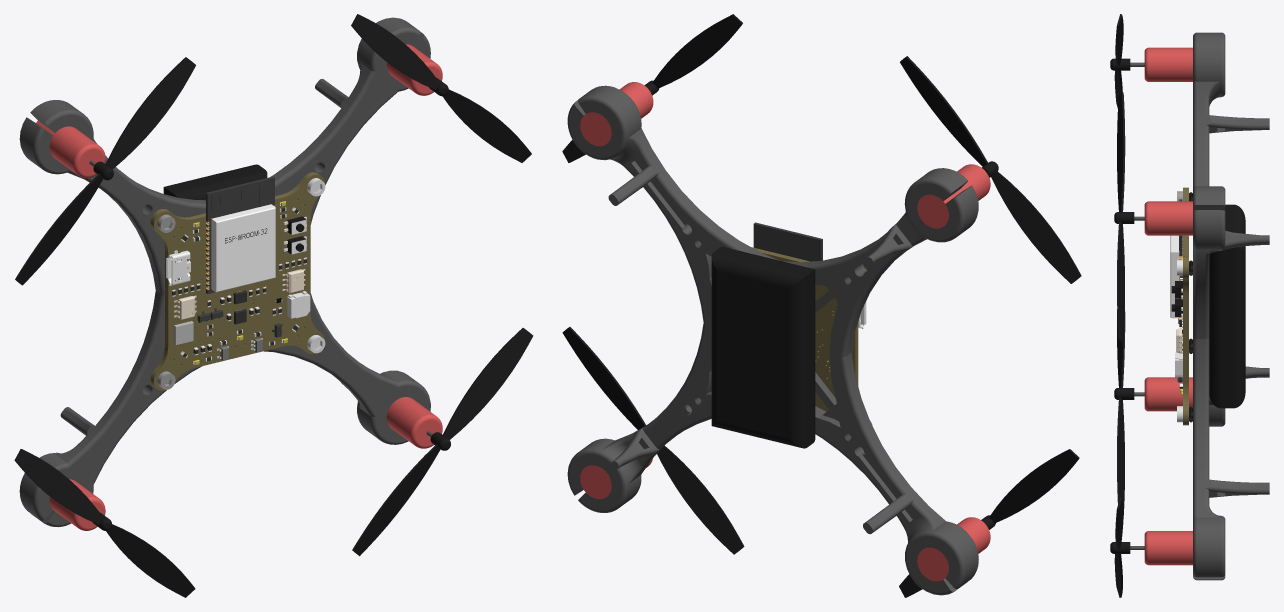
Rendered from quadESP_Devkit_Frame v1.fbx.
3 renders of one model, left to right at view 1: azimuth 30°, elevation 25°; view 2: azimuth 150°, elevation 25°; view 3: azimuth 270°, elevation 25°, orthographic. The views are drawn at different scales.
Visible parts, largest first — view 1: Frame, Board, Body1 (×2), left_top_prop, right_bot_prop, right_top_prop, left_bot_prop, laft_top_mot, right_bot_mot, battery, left_bot_mot, right_top_mot; view 2: Frame, battery, left_top_prop, right_bot_prop, left_bot_prop, right_top_prop, Board, Body1, laft_top_mot, left_bot_mot, right_top_mot, right_bot_mot; view 3: Frame, battery, right_top_prop, laft_top_mot, right_bot_mot, right_top_mot, left_bot_prop, left_bot_mot, Board, right_bot_prop, left_top_prop, Body1.
Boxes of the visible parts, x1,y1,x2,y2 form: Frame: [19, 17, 430, 527]; Board: [150, 172, 324, 390]; Body1 (×2): [166, 176, 275, 293]; left_top_prop: [15, 57, 195, 285]; right_bot_prop: [352, 328, 533, 556]; right_top_prop: [351, 14, 531, 162]; left_bot_prop: [14, 449, 195, 597]; laft_top_mot: [36, 121, 105, 177]; right_bot_mot: [386, 397, 442, 448]; battery: [163, 164, 267, 200]; left_bot_mot: [49, 479, 105, 530]; right_top_mot: [386, 44, 442, 95]; Frame: [567, 85, 978, 595]; battery: [711, 247, 815, 448]; left_top_prop: [900, 56, 1081, 283]; right_bot_prop: [562, 327, 744, 554]; left_bot_prop: [899, 449, 1079, 597]; right_top_prop: [562, 14, 742, 162]; Board: [751, 247, 867, 411]; Body1: [753, 222, 822, 261]; laft_top_mot: [917, 164, 990, 228]; left_bot_mot: [917, 517, 990, 581]; right_top_mot: [580, 82, 653, 146]; right_bot_mot: [580, 458, 652, 499]; Frame: [1193, 32, 1269, 580]; battery: [1209, 204, 1245, 408]; right_top_prop: [1114, 92, 1134, 343]; laft_top_mot: [1144, 47, 1192, 81]; right_bot_mot: [1144, 531, 1192, 565]; right_top_mot: [1144, 201, 1192, 235]; left_bot_prop: [1114, 309, 1134, 514]; left_bot_mot: [1144, 377, 1192, 411]; Board: [1183, 187, 1188, 425]; right_bot_prop: [1110, 497, 1130, 597]; left_top_prop: [1110, 14, 1130, 108]; Body1: [1170, 199, 1182, 323].
Bounding box in the file's own units: 138 × 138 × 39.5.
